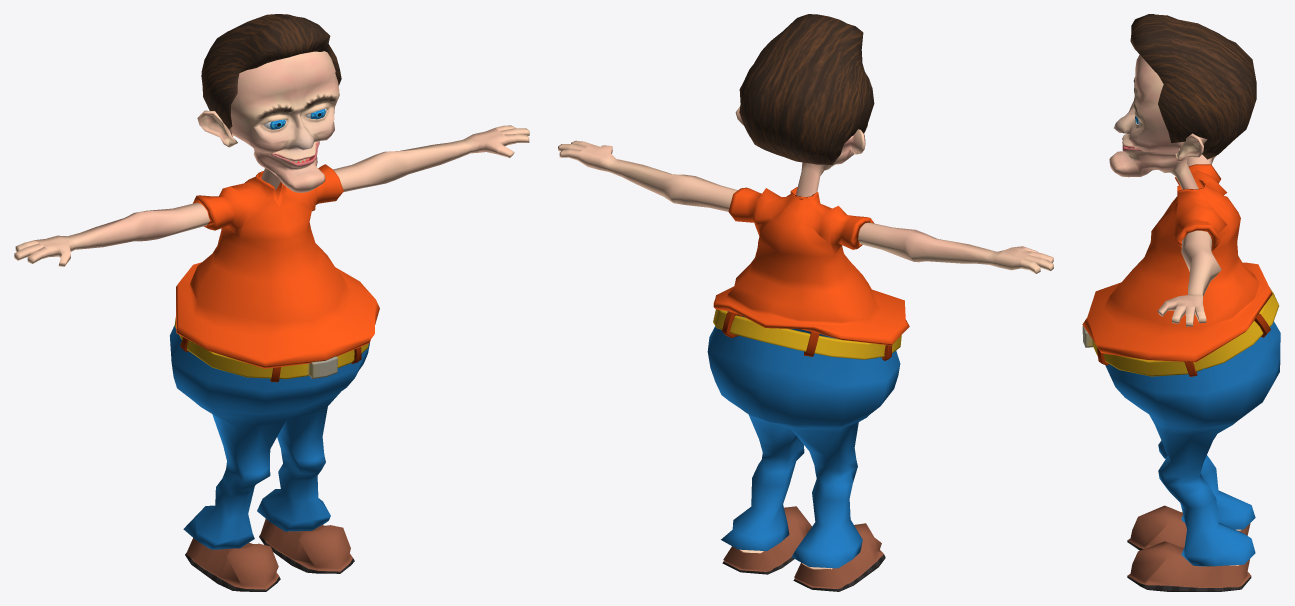
Rendered from TeacherFinal2.fbx.
3 views of the same model, side by side, from view 1: azimuth 30°, elevation 25°; view 2: azimuth 150°, elevation 25°; view 3: azimuth 270°, elevation 25° (orthographic). The views are drawn at different scales.
Parts seen in each view (by area): view 1: CharactersHair; view 2: CharactersHair; view 3: CharactersHair.
Part boxes in pixels (<box>): CharactersHair: <box>14,14,529,591</box>; CharactersHair: <box>558,14,1053,591</box>; CharactersHair: <box>1082,14,1280,591</box>.
Size of the model in its own units: 167 by 171 by 56.86.
